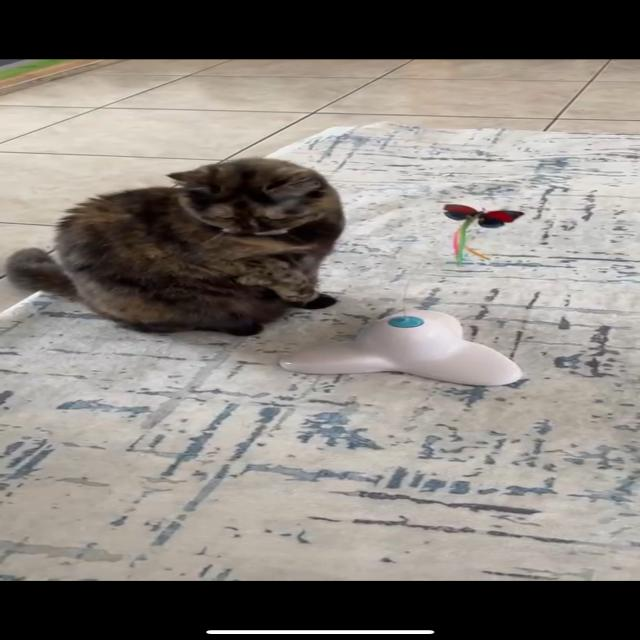authorized: (4, 156, 346, 337)
